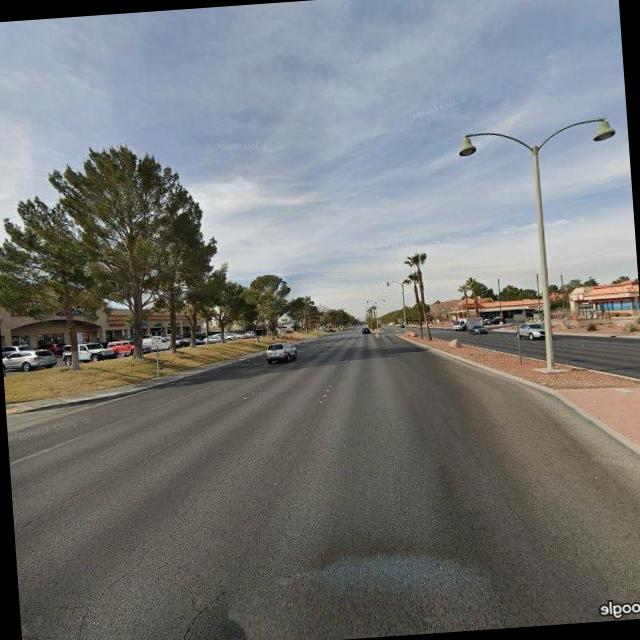pothole: (61, 544, 162, 638), (160, 583, 234, 640)
